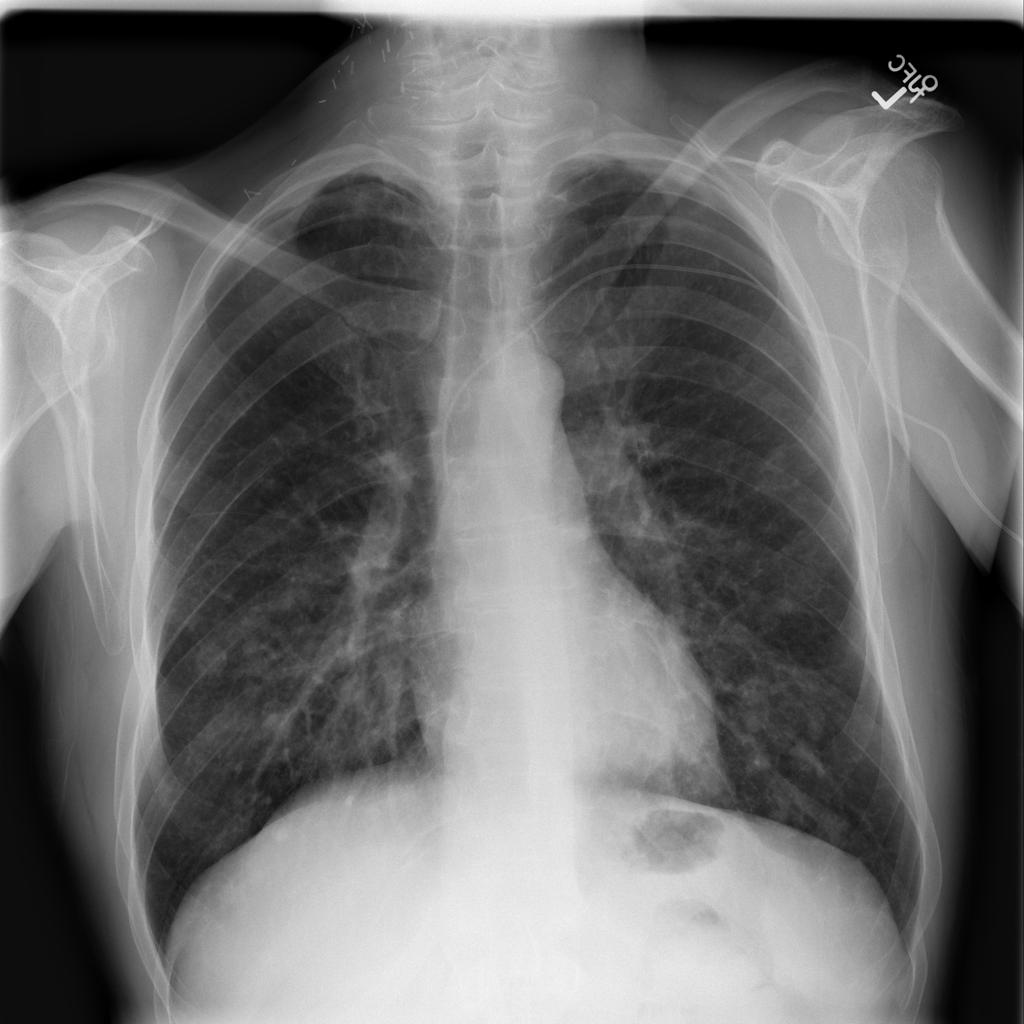nodule: (720, 665, 788, 749), (176, 625, 244, 697), (762, 582, 816, 631)
